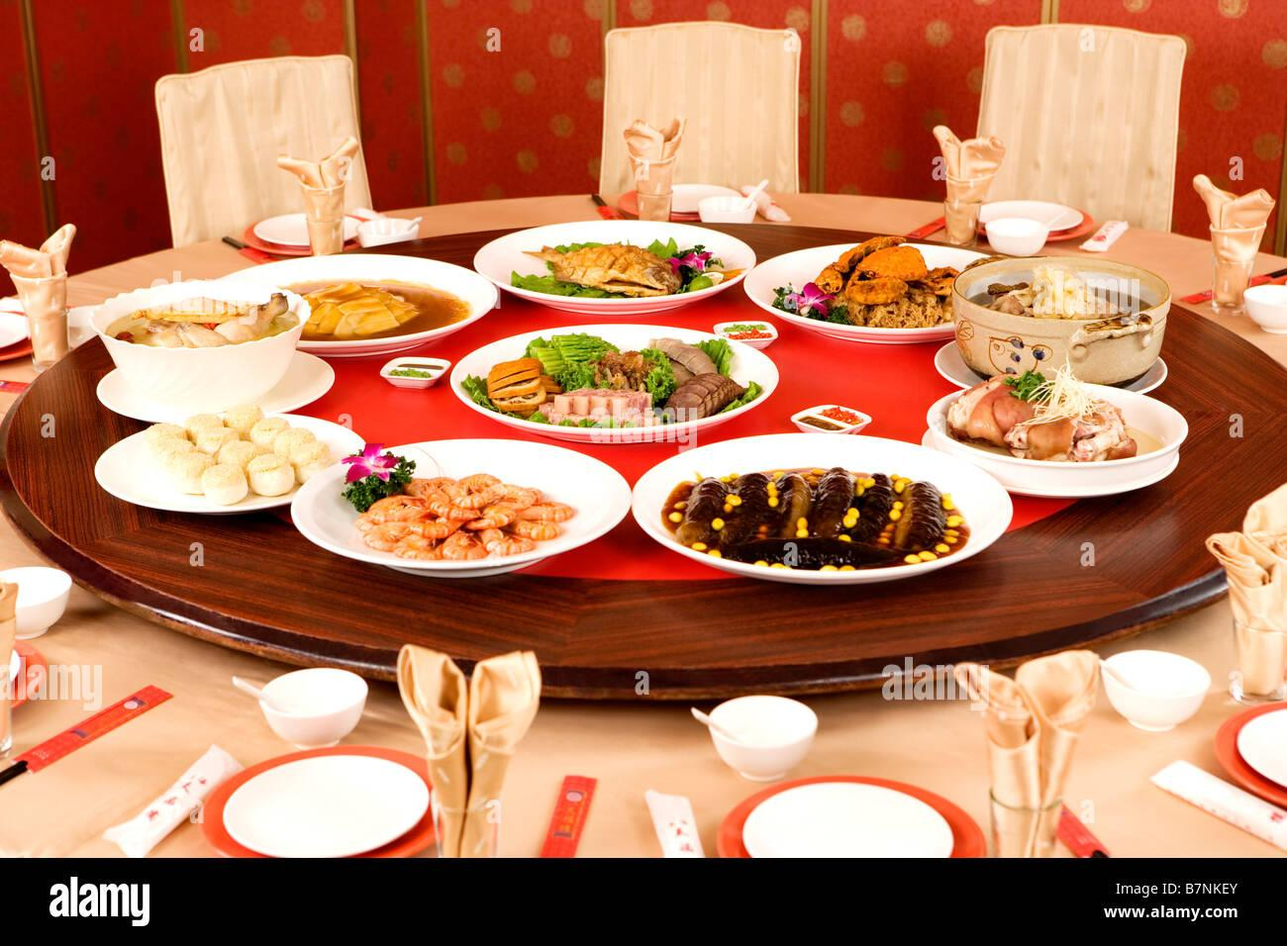Braised Crucian Carp: (644, 431, 981, 577), (287, 436, 626, 572), (446, 326, 778, 442), (934, 249, 1176, 400), (98, 278, 347, 424), (919, 384, 1186, 499), (215, 252, 502, 358), (90, 411, 363, 516), (750, 242, 965, 343), (474, 219, 707, 312)
